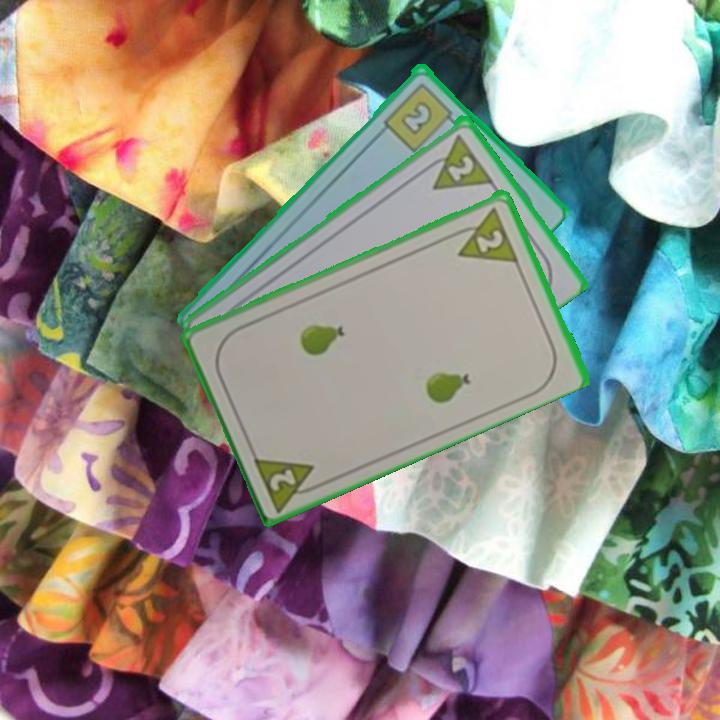2b: (380, 78, 460, 155)
2p: (249, 451, 327, 513), (446, 203, 521, 265), (444, 151, 478, 184)
